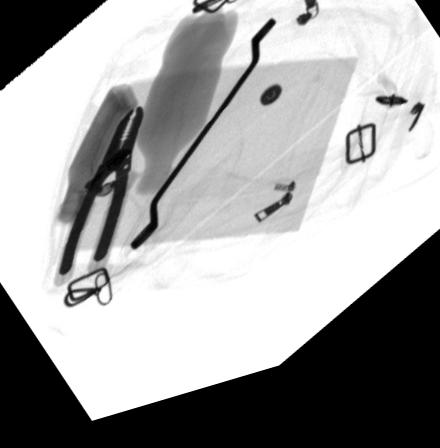Pliers: (53, 112, 146, 289)
Wrench: (129, 33, 277, 262)
